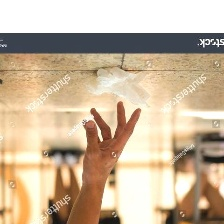tissue: (81, 62, 155, 113)
